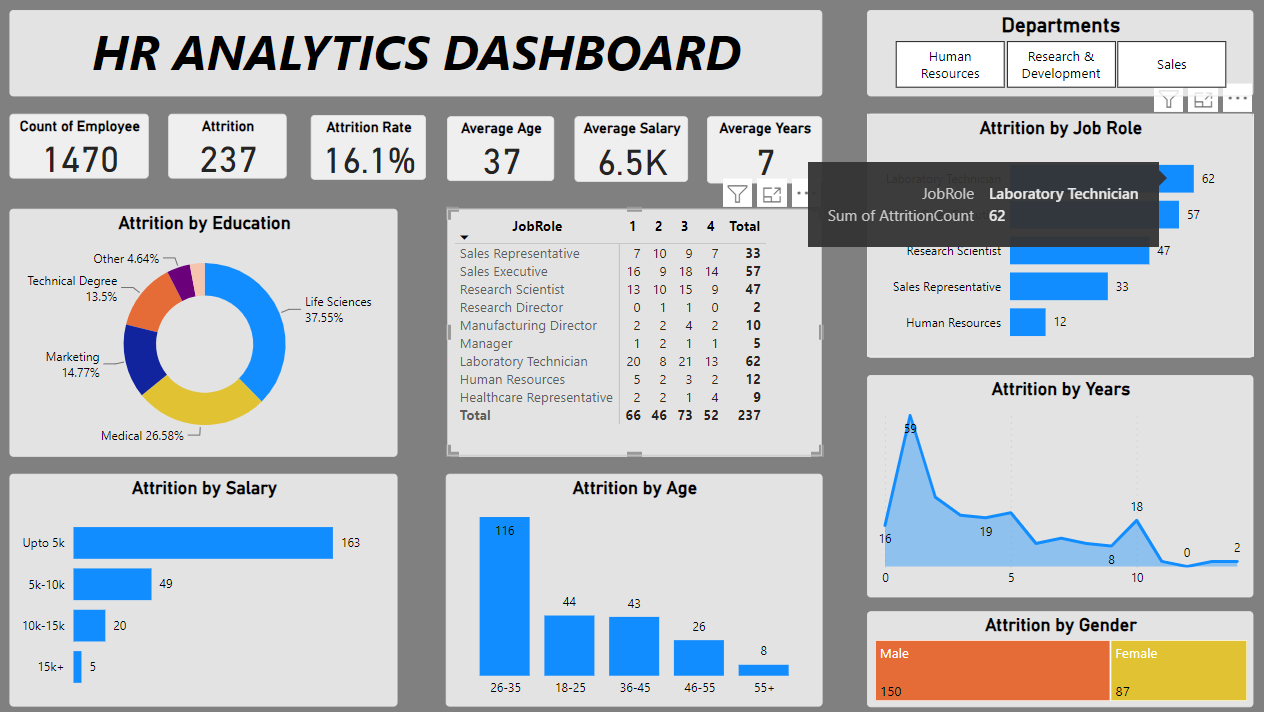

This screenshot's page, from the dashboard's own definition file:
{"tool":"powerbi","page":{"name":"Page 1","canvas":[1280,720],"ordinal":0},"visuals":[{"type":"card","title":"Count of Employee","fields":{"Values":["CountNonNull(HR_Analytics.EmpID)"]},"box":[17,113.8,139.4,64.9],"z":0},{"type":"card","title":"Attrition","fields":{"Values":["Sum(HR_Analytics.AttritionCount)"]},"box":[176.6,113.8,118.1,64.9],"z":1000},{"type":"card","title":"Attrition Rate","fields":{"Values":["HR_Analytics.AttritionRate"]},"box":[319.1,114.9,114.9,64.9],"z":2000},{"type":"card","title":"Average Age ","fields":{"Values":["Avg(HR_Analytics.Age)"]},"box":[455.3,116,107.4,64.9],"z":3000},{"type":"card","title":"Average Salary","fields":{"Values":["Avg(HR_Analytics.MonthlyIncome)"]},"box":[583,116,113.8,66],"z":4000},{"type":"card","title":"Average Years ","fields":{"Values":["Avg(HR_Analytics.YearsAtCompany)"]},"box":[714.9,116,114.9,67],"z":5000},{"type":"donutChart","title":"Attrition by Education","fields":{"Category":["HR_Analytics.EducationField"],"Y":["Sum(HR_Analytics.AttritionCount)"]},"box":[17,208.5,388.3,247.9],"z":6000},{"type":"columnChart","title":"Attrition by Age","fields":{"Category":["HR_Analytics.AgeGroup"],"Y":["Sum(HR_Analytics.AttritionCount)"]},"box":[453.2,473.4,376.6,233],"z":7000},{"type":"pivotTable","fields":{"Rows":["HR_Analytics.JobRole"],"Columns":["HR_Analytics.JobSatisfaction"],"Values":["Sum(HR_Analytics.AttritionCount)"]},"box":[455.3,208.5,374.5,247.9],"z":8000},{"type":"barChart","title":"Attrition by Salary","fields":{"Category":["HR_Analytics.SalarySlab"],"Y":["Sum(HR_Analytics.AttritionCount)"]},"box":[17,473.4,388.3,233],"z":9000},{"type":"barChart","title":"Attrition by Job Role","fields":{"Category":["HR_Analytics.JobRole"],"Y":["Sum(HR_Analytics.AttritionCount)"]},"box":[875.5,113.8,386.2,243.6],"z":10000},{"type":"areaChart","title":"Attrition by Years","fields":{"Category":["HR_Analytics.YearsAtCompany"],"Y":["Sum(HR_Analytics.AttritionCount)"]},"box":[875,375,386.2,222.5],"z":11000},{"type":"treemap","title":"Attrition by Gender","fields":{"Group":["HR_Analytics.Gender"],"Values":["Sum(HR_Analytics.AttritionCount)"]},"box":[875.5,610.6,386.2,95.7],"z":12000},{"type":"slicer","title":"Departments","fields":{"Values":["HR_Analytics.Department"]},"box":[875.5,9.6,386.2,86.2],"z":13000},{"type":"textbox","box":[17,9.6,812.8,86.2],"z":14000}]}

Visuals, with their boxes in screenshot pixels (x1, y1, x2, y2), scaled from the page's 1280x720 canvas onto the 1264x712 screenshot:
"Count of Employee" card: x1=17, y1=113, x2=154, y2=177
"Attrition" card: x1=174, y1=113, x2=291, y2=177
"Attrition Rate" card: x1=315, y1=114, x2=429, y2=178
"Average Age " card: x1=450, y1=115, x2=556, y2=179
"Average Salary" card: x1=576, y1=115, x2=688, y2=180
"Average Years " card: x1=706, y1=115, x2=819, y2=181
"Attrition by Education" donutChart: x1=17, y1=206, x2=400, y2=451
"Attrition by Age" columnChart: x1=448, y1=468, x2=819, y2=699
pivotTable - HR_Analytics.JobRole x HR_Analytics.JobSatisfaction: x1=450, y1=206, x2=819, y2=451
"Attrition by Salary" barChart: x1=17, y1=468, x2=400, y2=699
"Attrition by Job Role" barChart: x1=865, y1=113, x2=1246, y2=353
"Attrition by Years" areaChart: x1=864, y1=371, x2=1245, y2=591
"Attrition by Gender" treemap: x1=865, y1=604, x2=1246, y2=698
"Departments" slicer: x1=865, y1=9, x2=1246, y2=95
textbox: x1=17, y1=9, x2=819, y2=95
